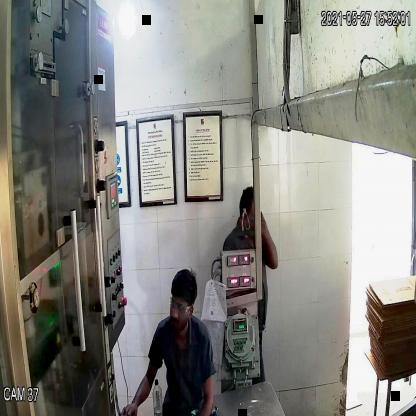goggles: (166, 292, 195, 316)
